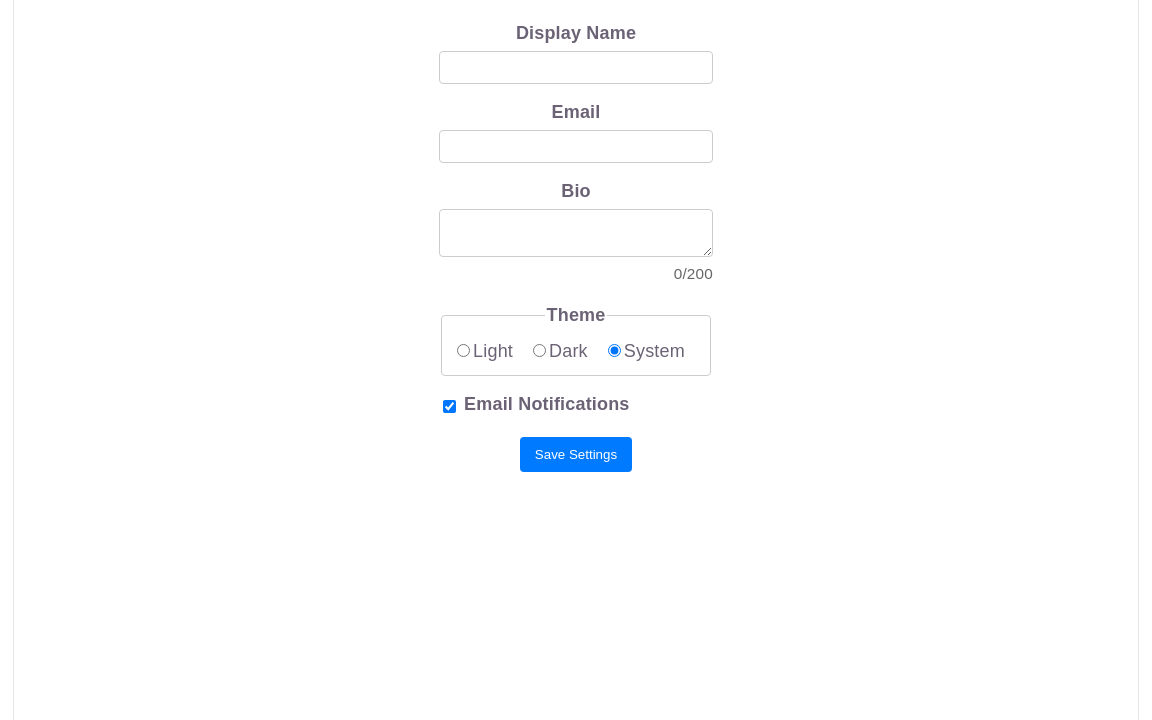
Test case: SettingsForm › shows error for invalid email
Type "John Doe" into the field labelled "Display Name". click: coordinates (576, 68)
box: [439, 51, 713, 84]
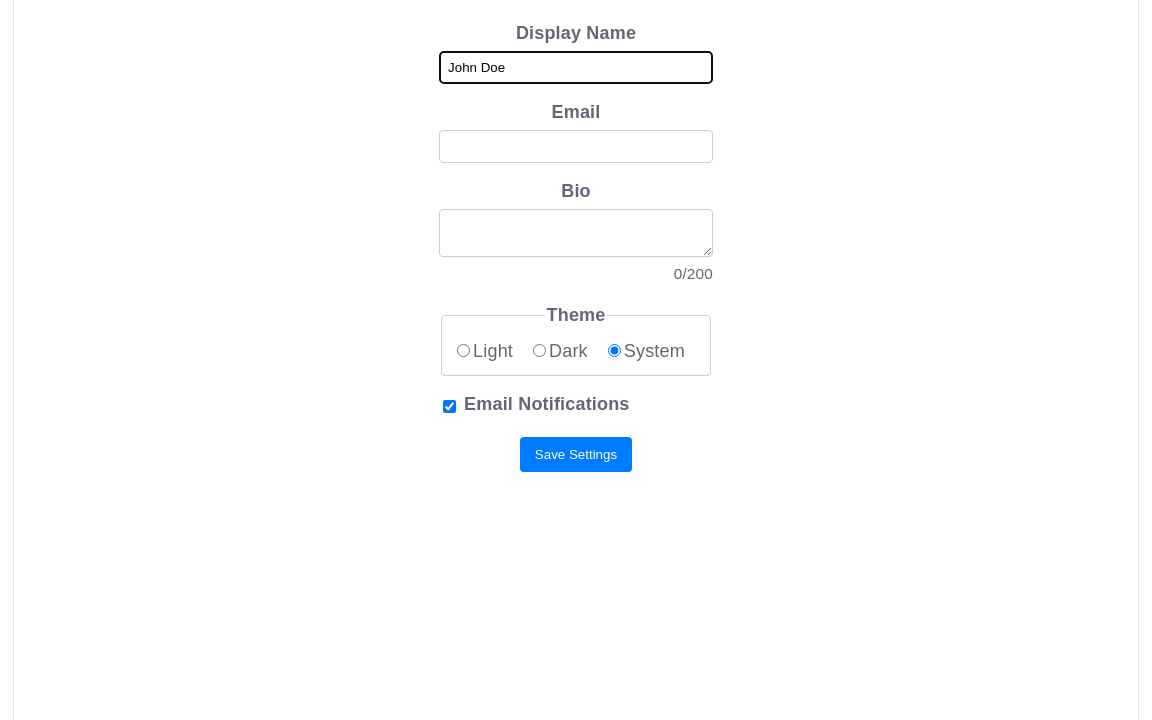
Type "notanemail" into the field labelled "Email". click: coordinates (576, 147)
box: [439, 130, 713, 163]
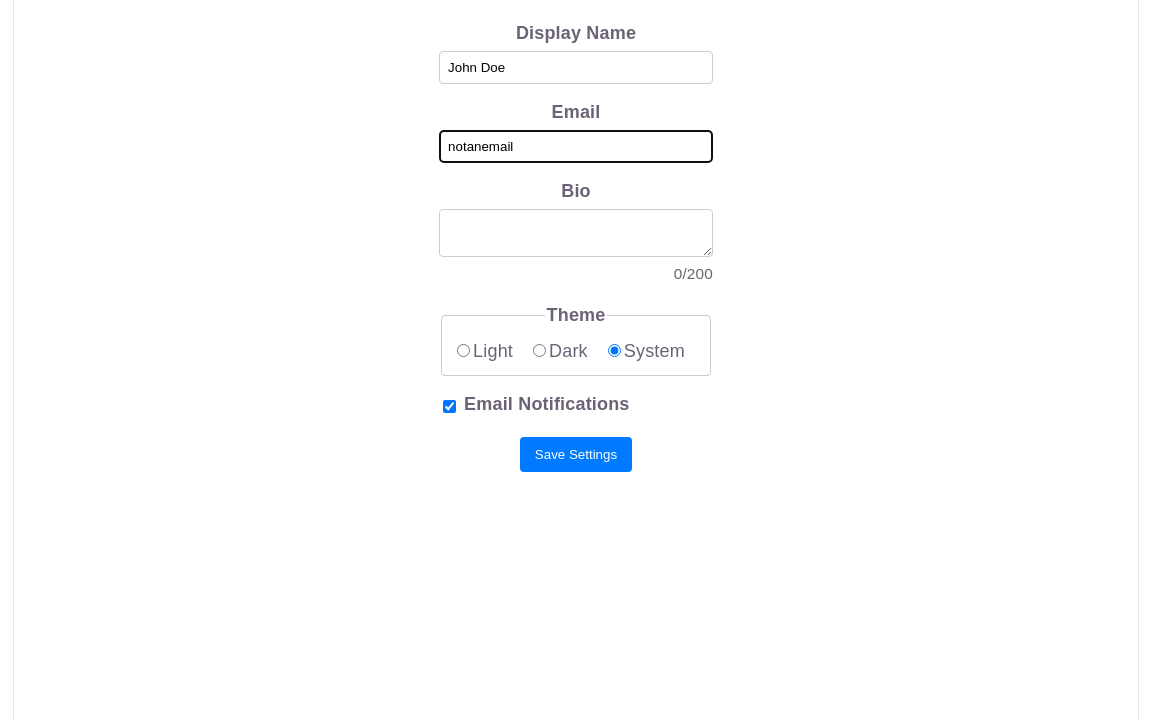
Click the button "Save Settings". click: coordinates (576, 454)
box: [520, 437, 632, 472]
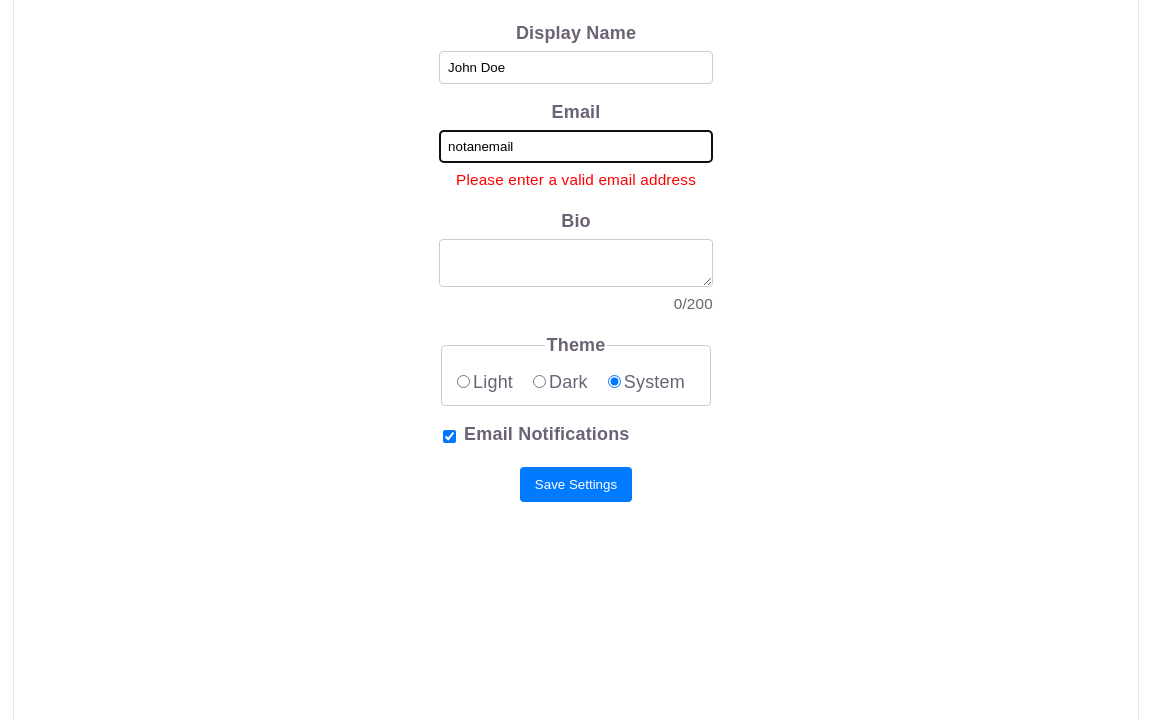
Check: the text "Please enter a valid email address" is shown, box [439, 167, 713, 193]
